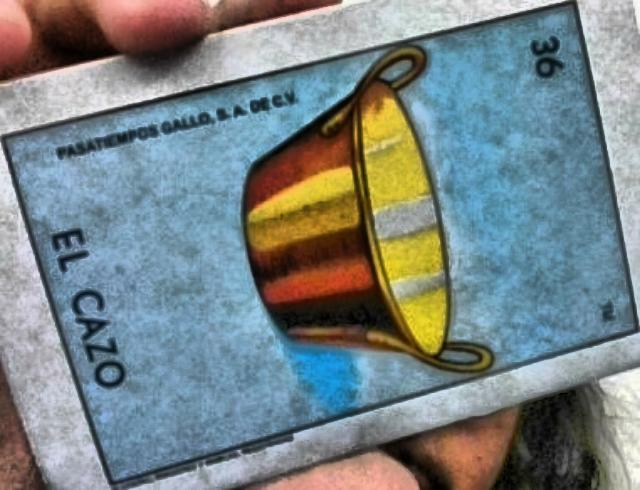El Cazo: (7, 4, 637, 484)
